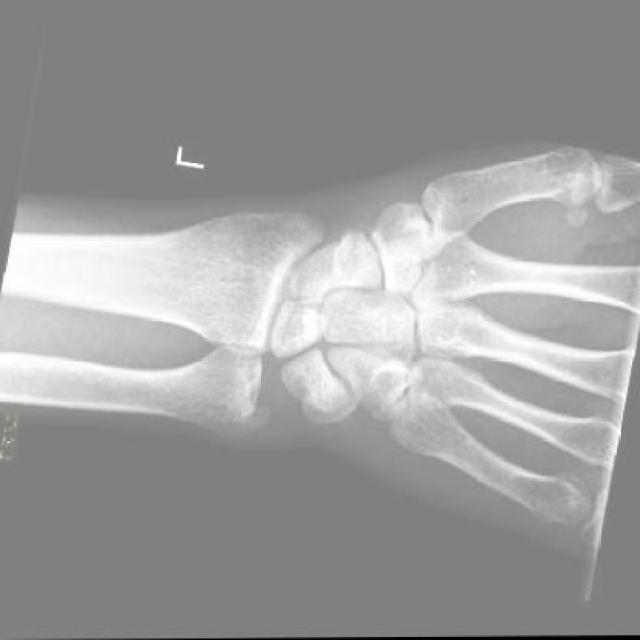Fracture: (323, 228, 377, 305)
